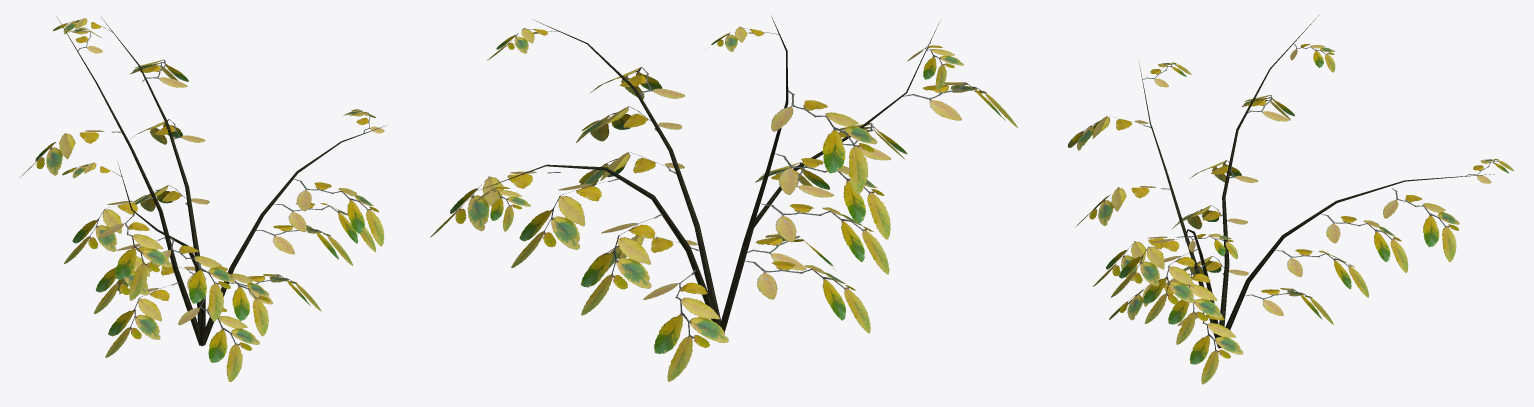
The model's file is yellow twig tree.glb.
3 views of the same model, side by side, from view 1: azimuth 30°, elevation 25°; view 2: azimuth 150°, elevation 25°; view 3: azimuth 270°, elevation 25° (orthographic). The views are drawn at different scales.
Parts seen in each view (by area): view 1: Leaves, Twigs; view 2: Leaves, Twigs; view 3: Leaves, Twigs.
Boxes of the visible parts, bbox=[...] form: Leaves: bbox=[20, 18, 384, 381]; Twigs: bbox=[56, 16, 385, 346]; Leaves: bbox=[430, 26, 1017, 381]; Twigs: bbox=[474, 16, 940, 332]; Leaves: bbox=[1068, 44, 1513, 384]; Twigs: bbox=[1138, 15, 1494, 348].
Size of the model in its own units: 3.49 by 3 by 4.32.
Materials: 2 (2 with a texture image).
